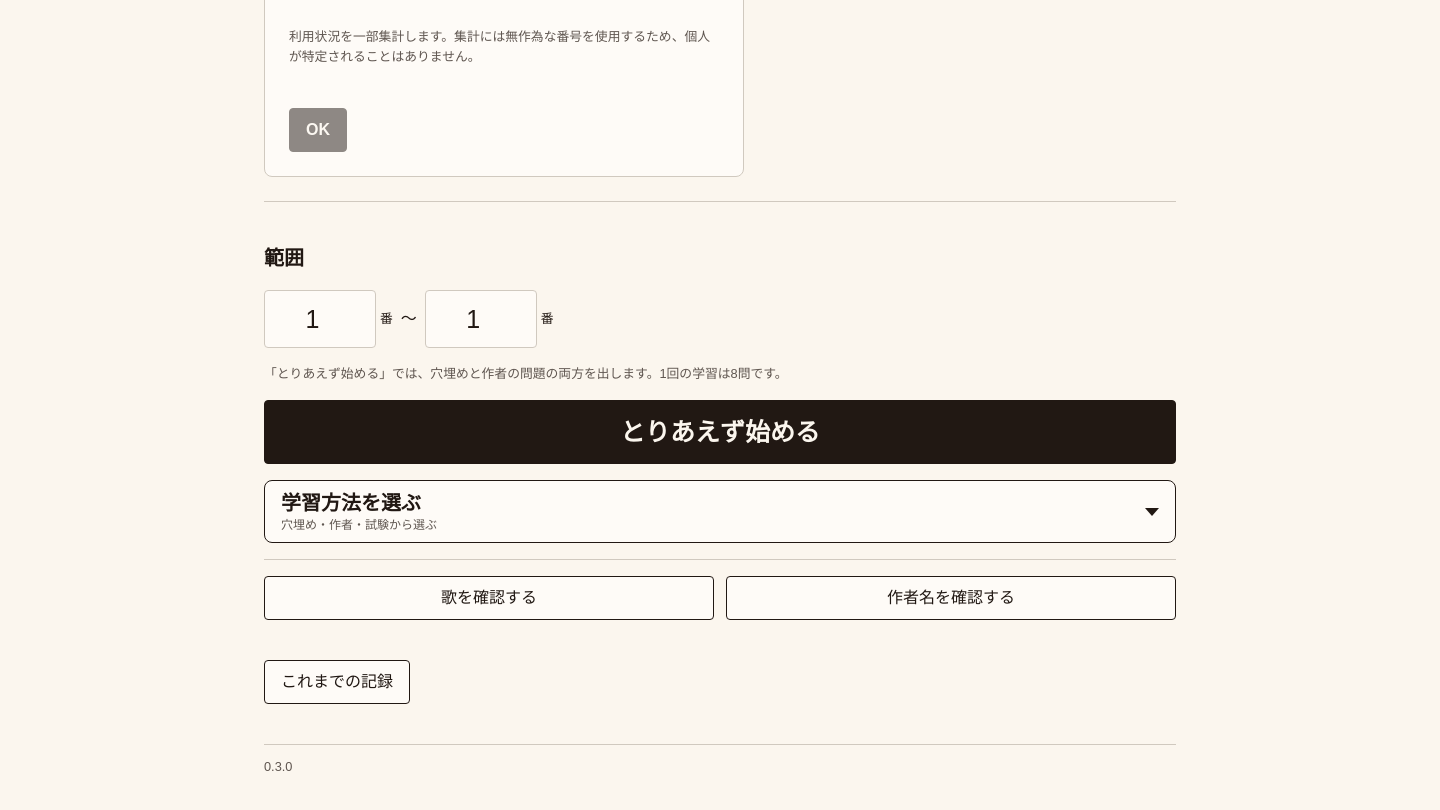
it: 配線: 記録の無い学習者には選択式の作者問題が出る
(page scrolled)
Click the button "とりあえず始める" at (720, 432), box [264, 400, 1176, 464]
(page scrolled)
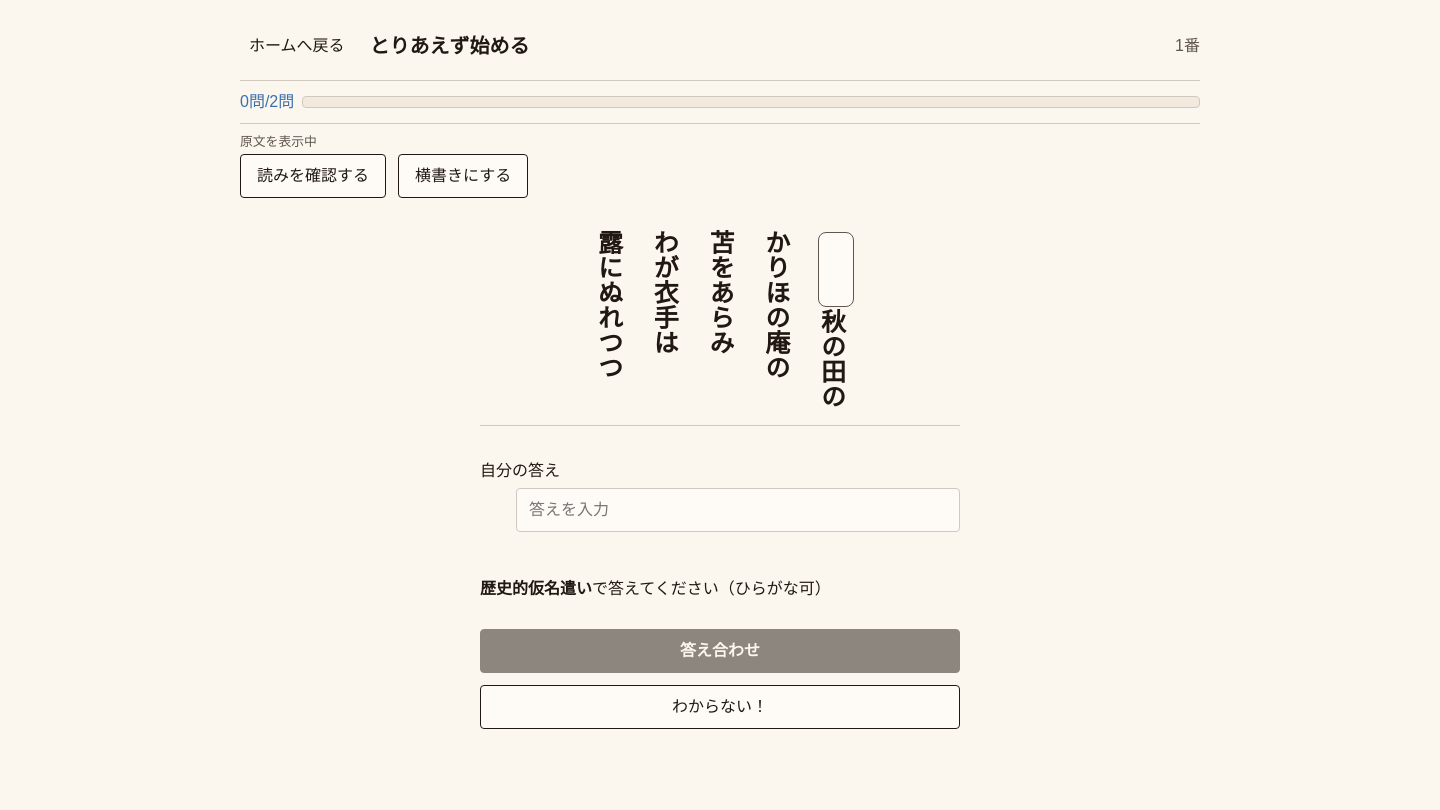
Type "あきのたの" into the field labelled "自分の答え" at (738, 510), box [516, 488, 960, 532]
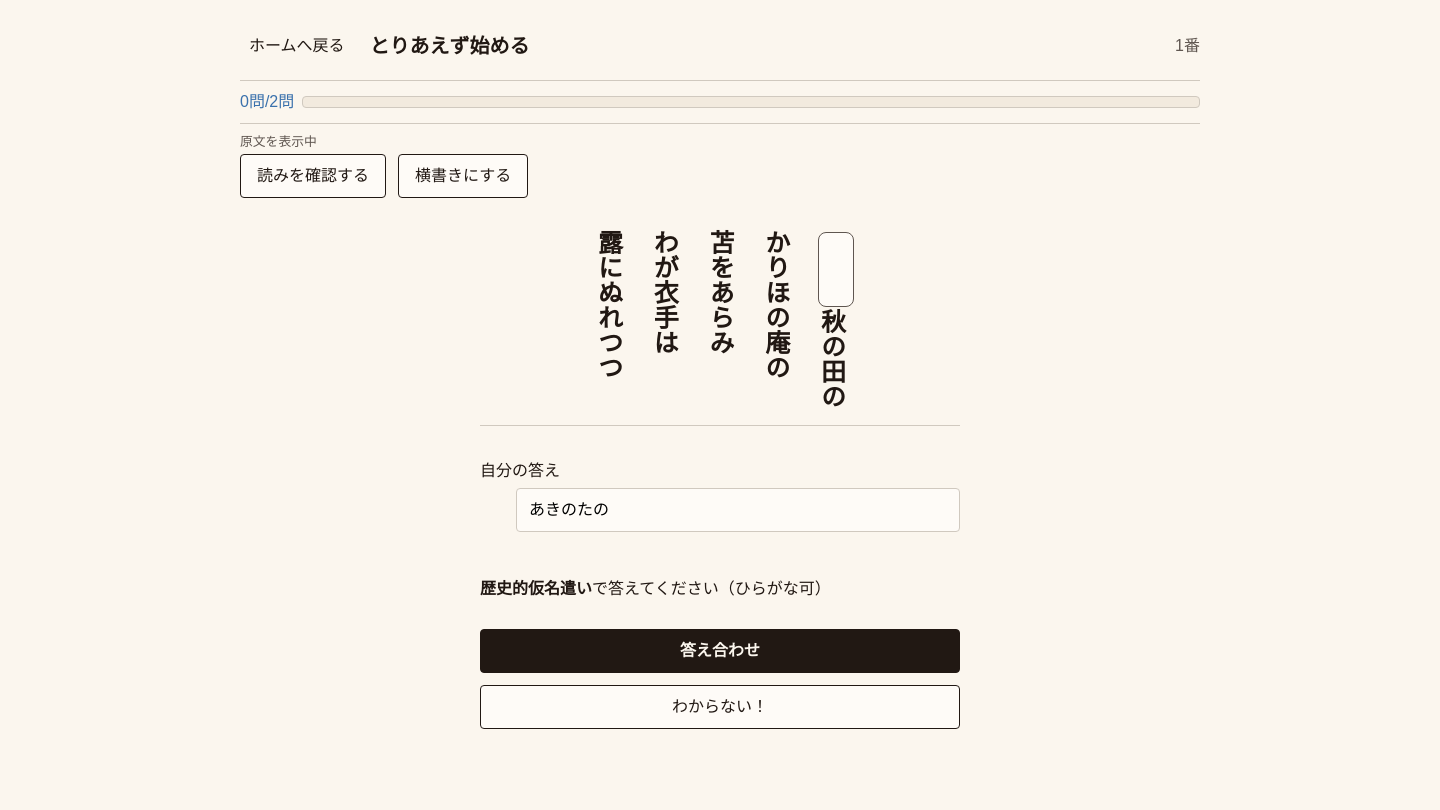
Click the button "答え合わせ" at (720, 651), box [480, 629, 960, 673]
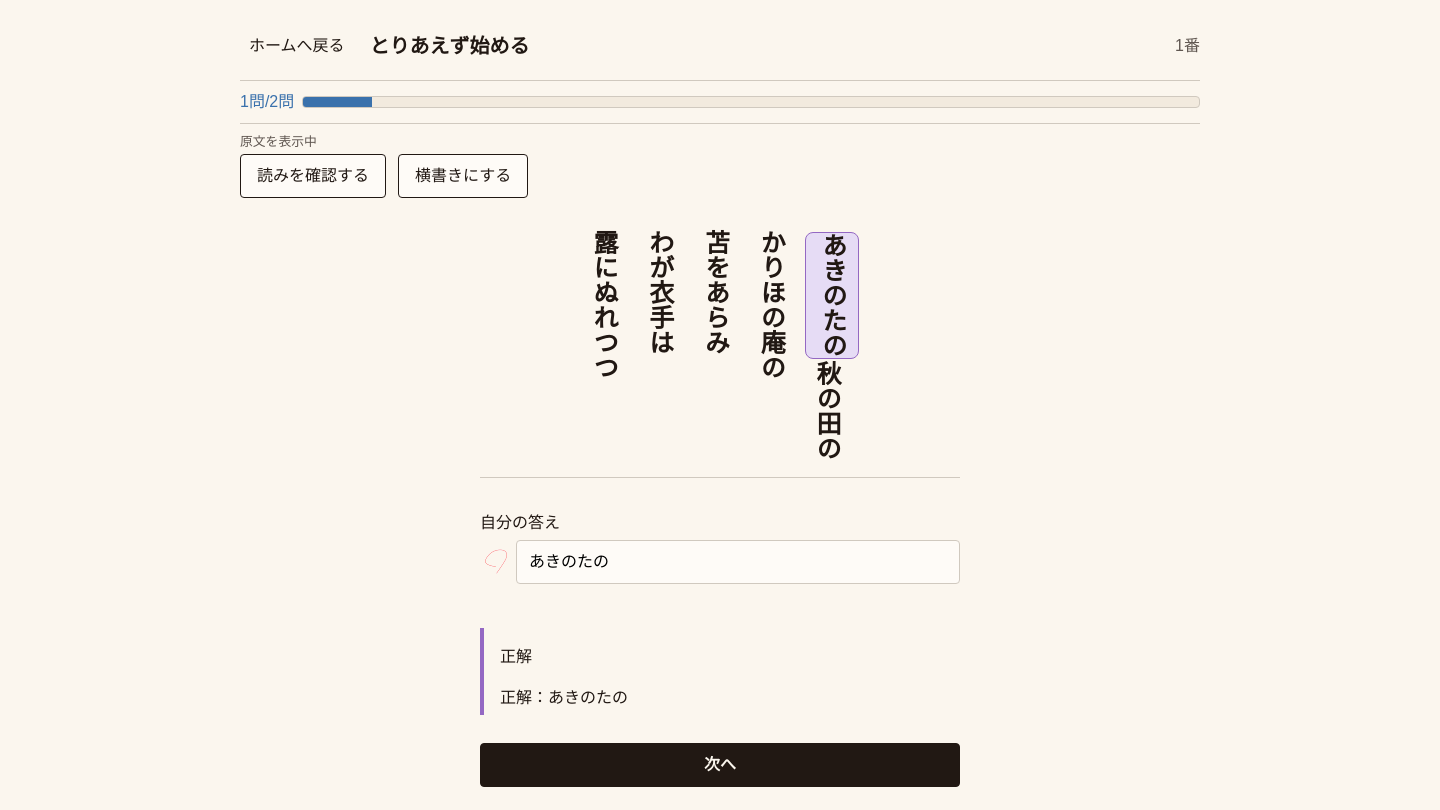
Click the button "次へ" at (720, 765), box [480, 743, 960, 787]
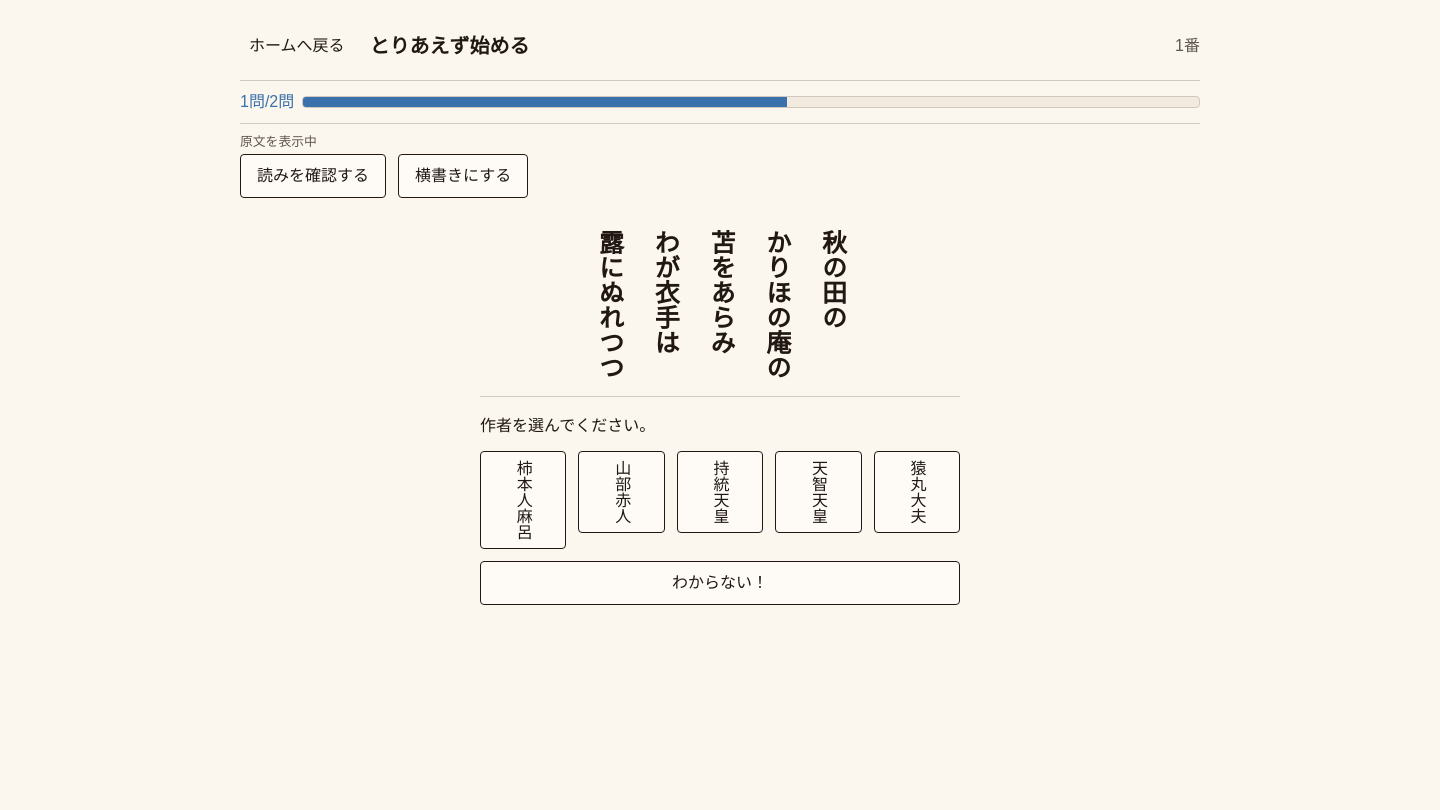
Now the element with class "answer-choices" is shown, box [480, 413, 960, 549]
